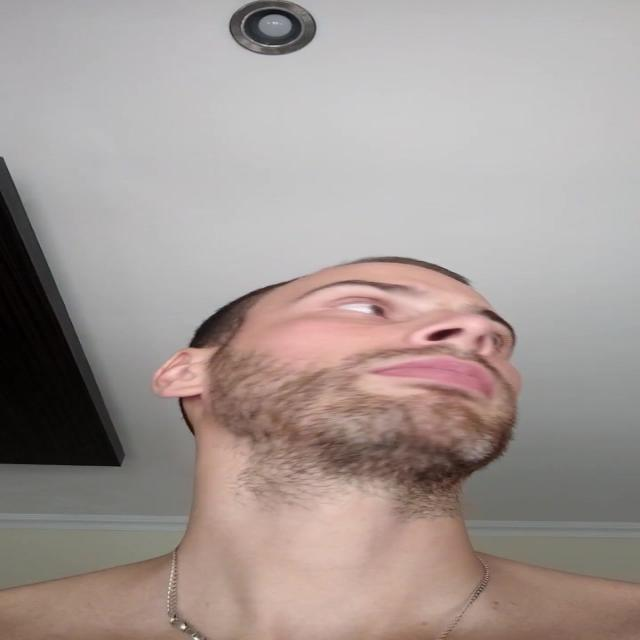earlobe: (165, 382, 208, 398)
eye: (330, 300, 392, 318)
nose: (420, 334, 494, 366)
wholeear: (156, 349, 208, 399)
